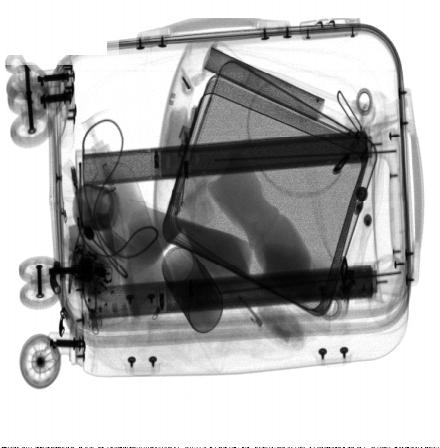Powerbank: (66, 204, 128, 332)
